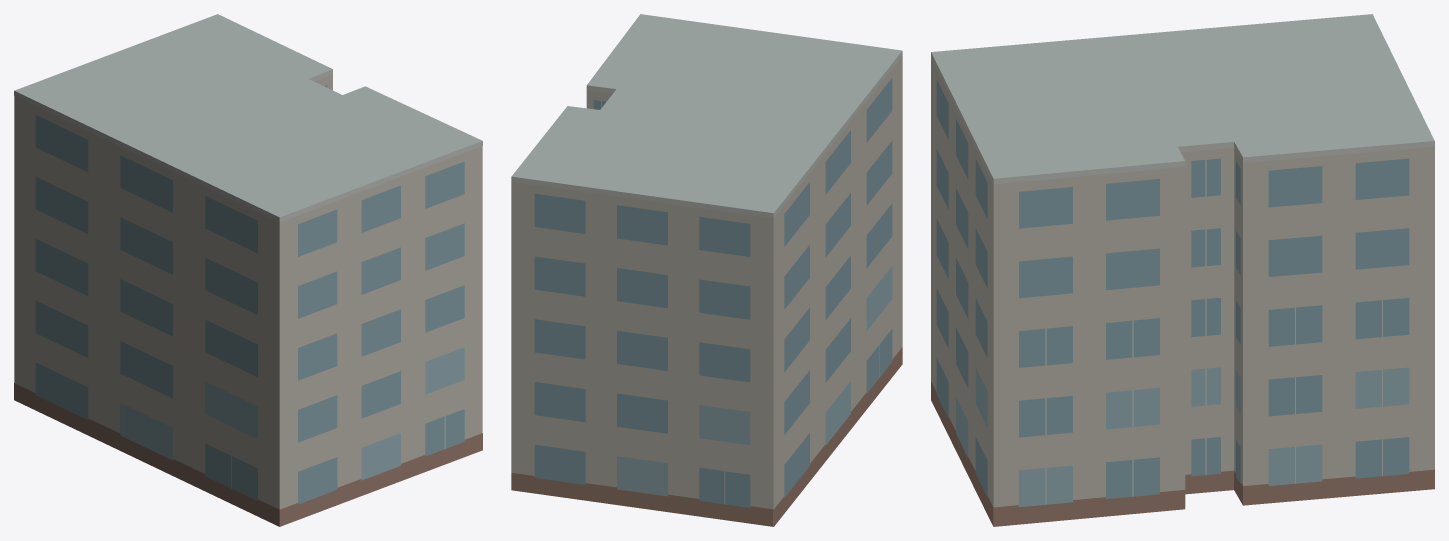
Rendered from survey-upis-32721907.glb.
3 views of the same model, side by side, from view 1: azimuth 30°, elevation 25°; view 2: azimuth 150°, elevation 25°; view 3: azimuth 270°, elevation 25° (orthographic). The views are drawn at different scales.
Parts seen in each view (by area): view 1: survey-upis-32721907.tmp; view 2: survey-upis-32721907.tmp; view 3: survey-upis-32721907.tmp.
Boxes of the visible parts, x1=… form: survey-upis-32721907.tmp: x1=14, y1=14, x2=482, y2=526; survey-upis-32721907.tmp: x1=511, y1=14, x2=902, y2=526; survey-upis-32721907.tmp: x1=931, y1=14, x2=1434, y2=526.
Bounding box in the file's own units: 15.09 × 14.86 × 19.5.
